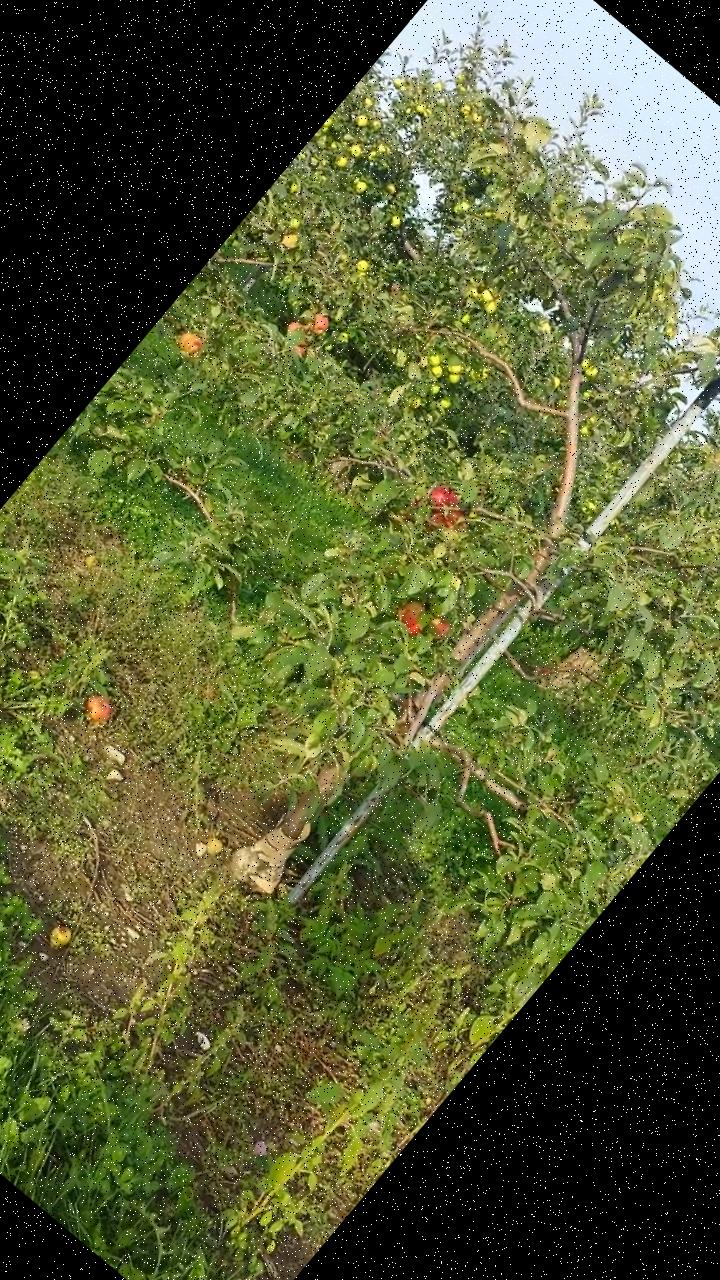Apple: (392, 596, 435, 638), (430, 496, 472, 537), (424, 479, 463, 517), (174, 326, 208, 358), (424, 613, 453, 641), (306, 310, 333, 337), (283, 314, 308, 338), (292, 340, 313, 360)
